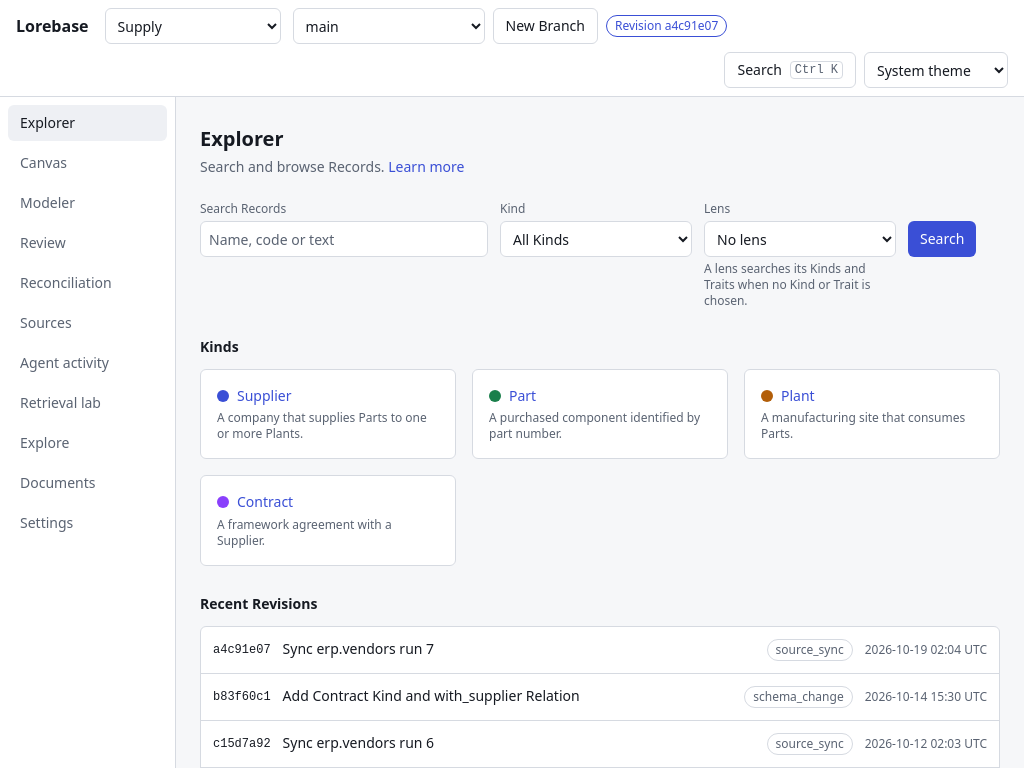
Explorer › lists the Records of a Kind when no text is typed
The image size is (1024, 768).
Select "Part" in the dropdown labelled "Kind": coordinates (596, 239) [500, 221, 692, 257]
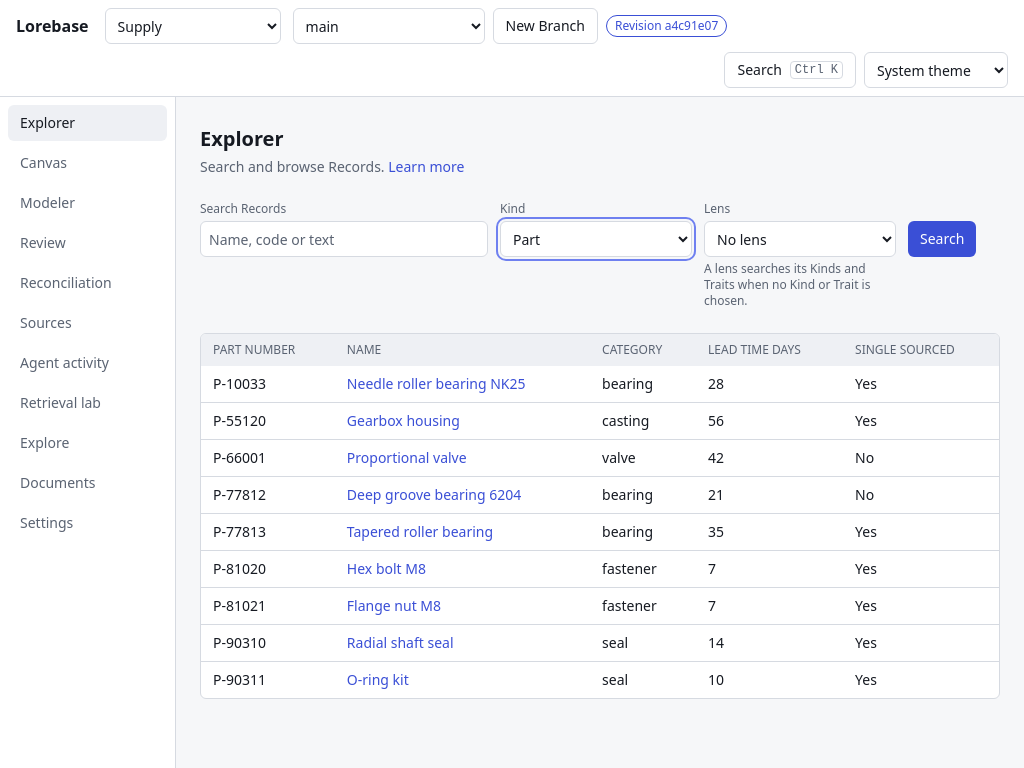
expect the link "Deep groove bearing 6204" is shown: met, box [347, 485, 521, 504]
